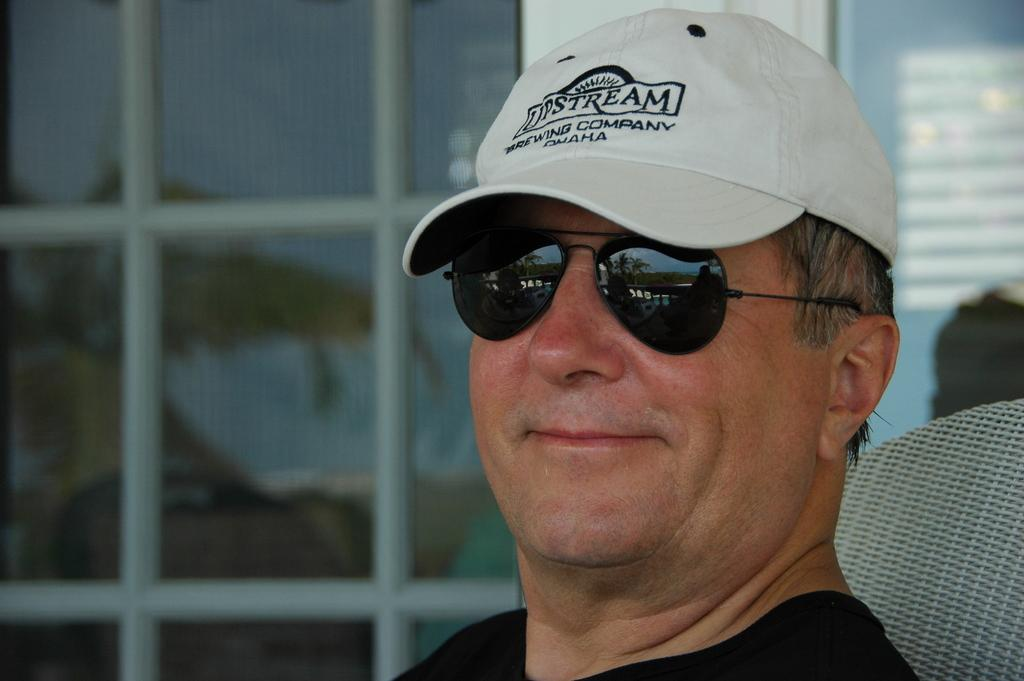Hat: (432, 15, 912, 345)
